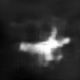plane: (18, 26, 71, 66)
